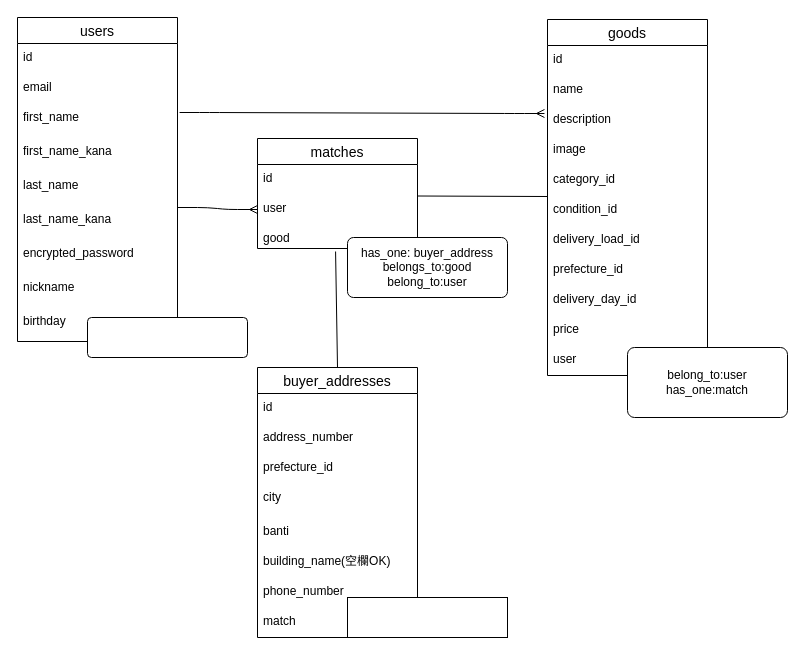
This 805x658 diagram has some shape labels left out. Here are the shapes that lost their labels. From the top down, the centre of each, then its label:
At [167,337]: "has_many:goods has_many:matchs".
At [427,617]: "belongs_to:match".
